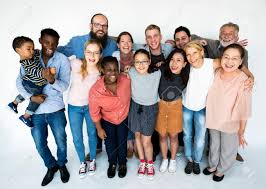person: (210, 43, 266, 129), (31, 20, 70, 97), (88, 52, 135, 110), (69, 34, 108, 94), (130, 50, 161, 115), (160, 53, 192, 115)
